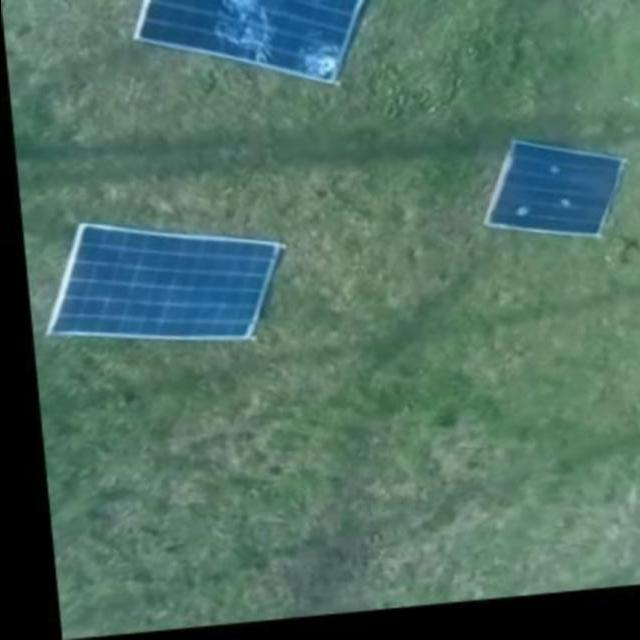cracked: (130, 1, 362, 93)
soiled: (482, 143, 624, 247)
